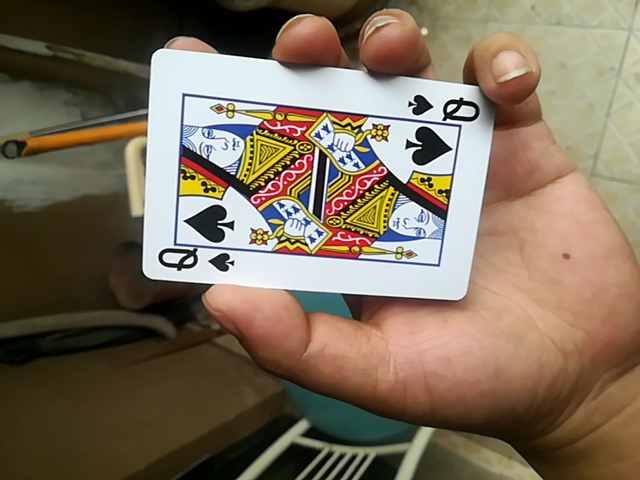ht q: (140, 54, 492, 307)
